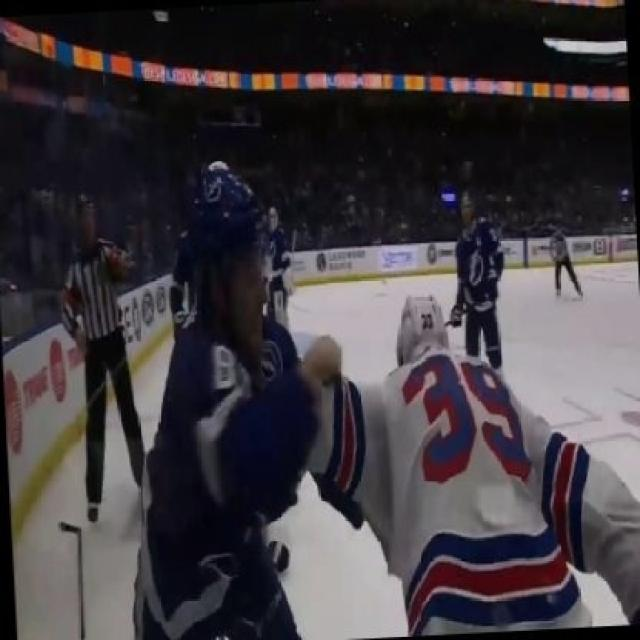fight: (136, 146, 638, 638)
non-fight: (56, 196, 149, 528), (447, 209, 508, 379)
